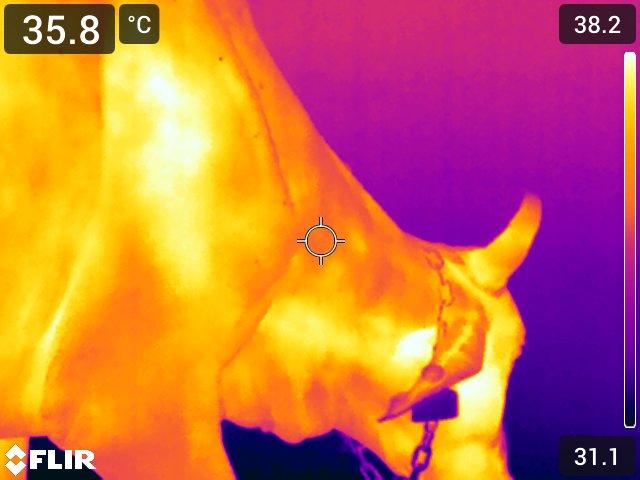ear: (378, 293, 490, 424)
neck: (276, 175, 371, 437)
